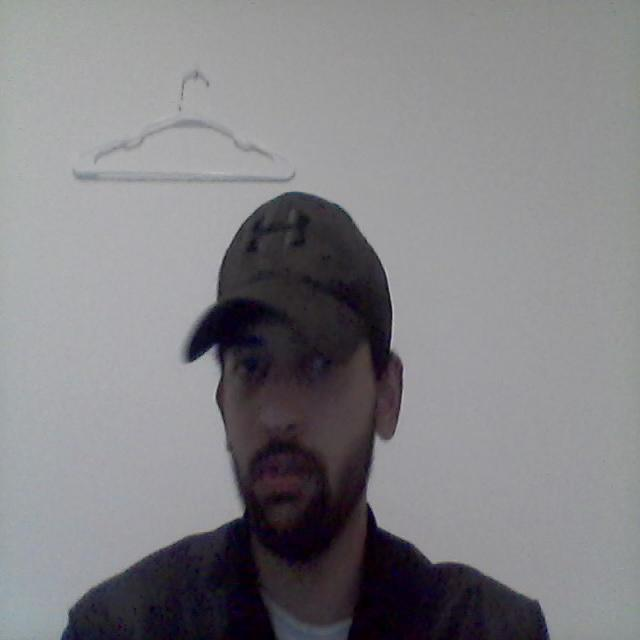cap: (166, 169, 428, 391)
